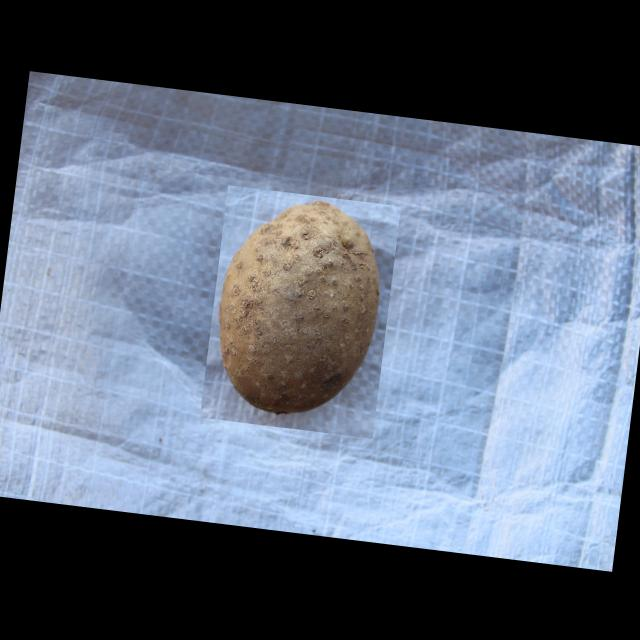Diseased-fungal potato: (198, 184, 400, 437)
